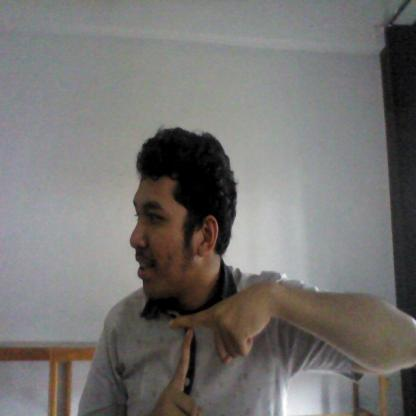T: (166, 280, 278, 416)
